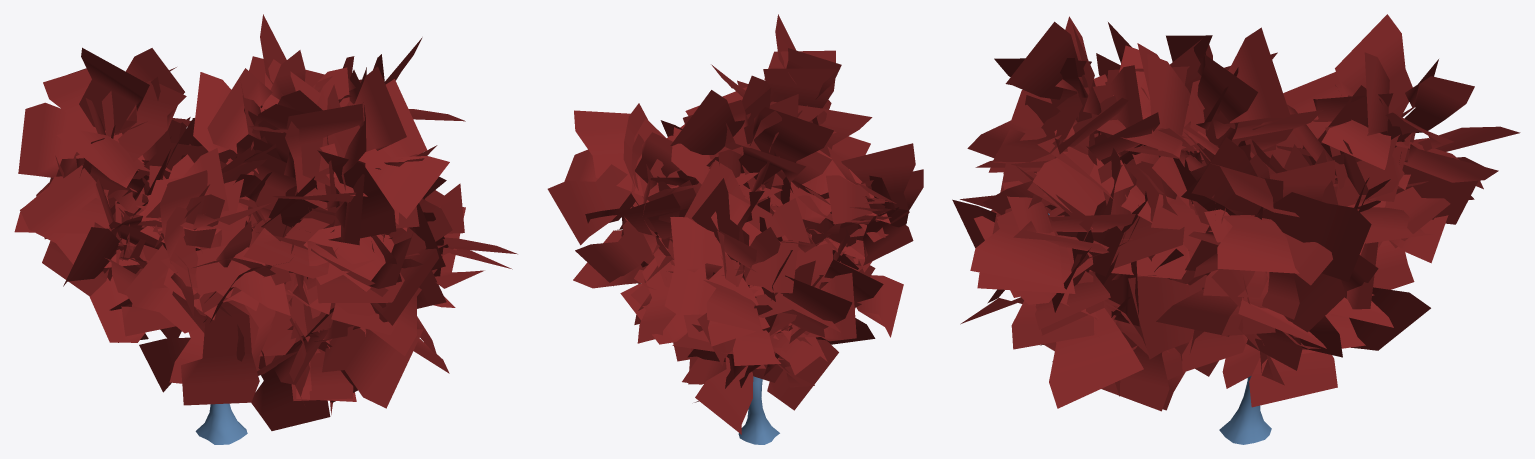
The model's file is MESH_CherryTree01.fbx.
3 renders of one model, left to right at view 1: azimuth 30°, elevation 25°; view 2: azimuth 150°, elevation 25°; view 3: azimuth 270°, elevation 25°, orthographic. The views are drawn at different scales.
Parts seen in each view (by area): view 1: Mesh_01CherryTreeLOD0; view 2: Mesh_01CherryTreeLOD0; view 3: Mesh_01CherryTreeLOD0.
Boxes of the visible parts, x1=… form: Mesh_01CherryTreeLOD0: x1=14, y1=14, x2=517, y2=444; Mesh_01CherryTreeLOD0: x1=547, y1=14, x2=923, y2=444; Mesh_01CherryTreeLOD0: x1=952, y1=14, x2=1520, y2=444.
Size of what is drawn, in the model's own units: 439 by 451 by 521.
